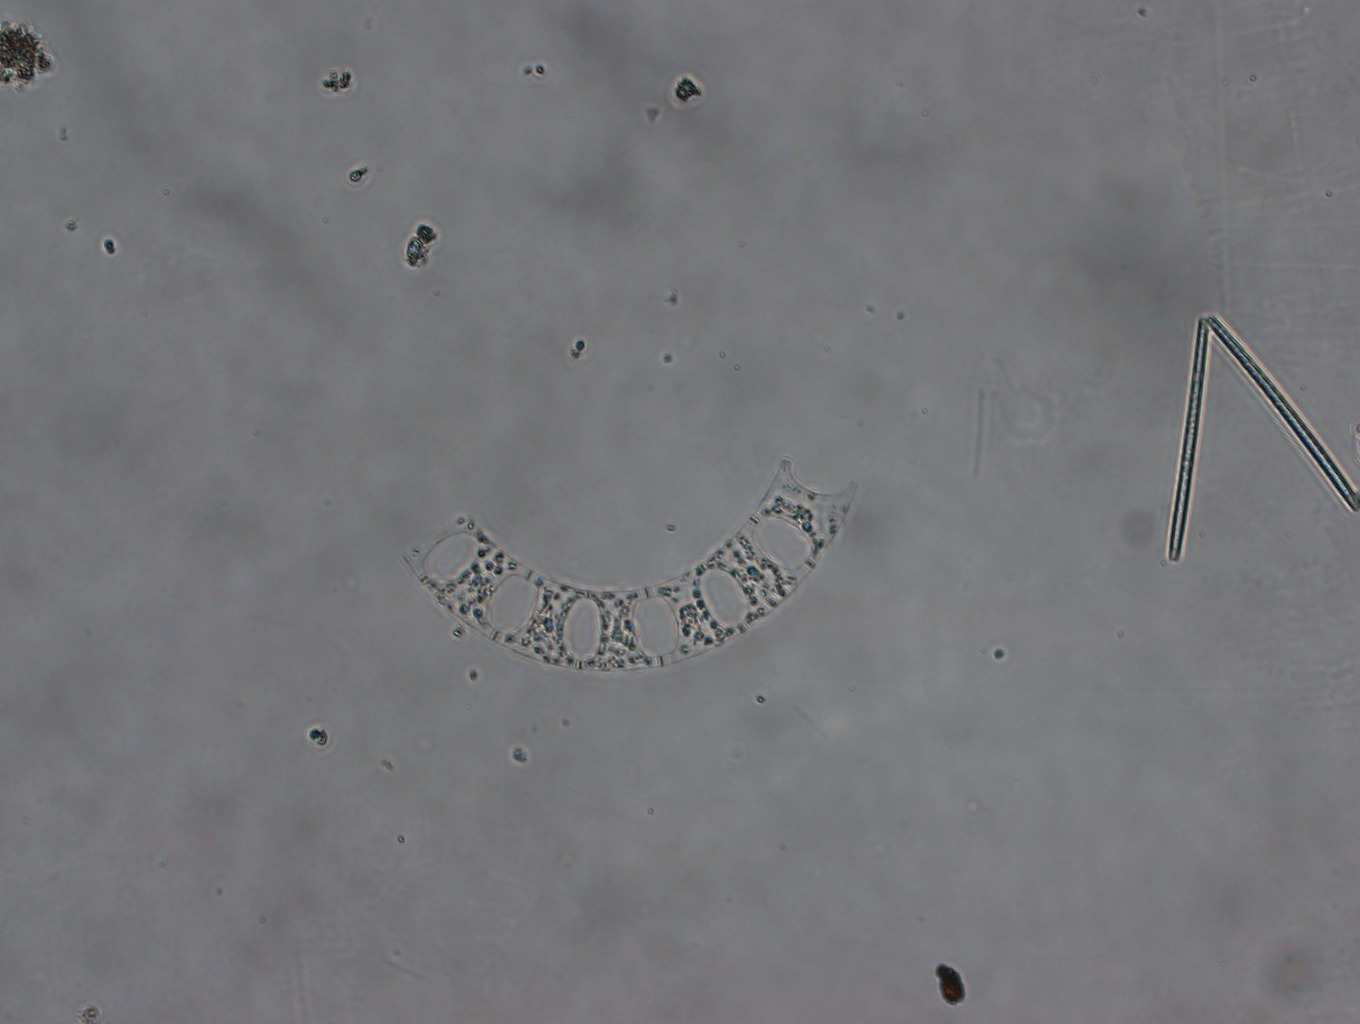eucampia: (400, 456, 858, 673)
thalassionema frauenfeldii: (1166, 313, 1360, 560)
